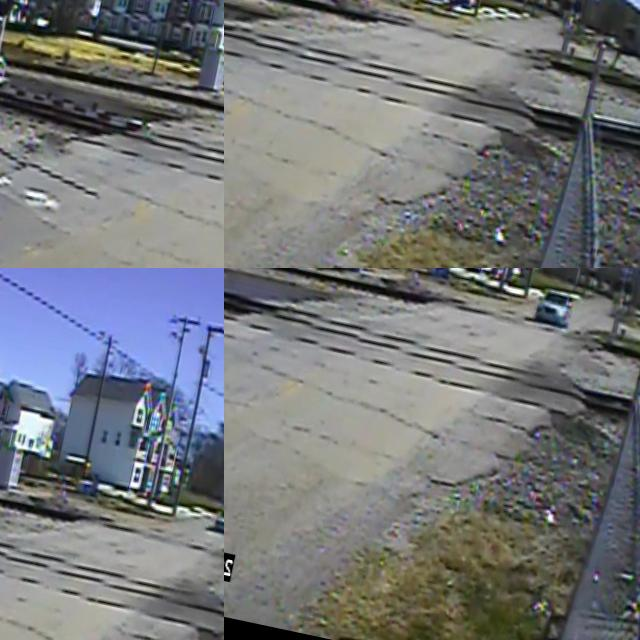barrier: (0, 268, 45, 388), (224, 268, 273, 343), (224, 0, 266, 78), (599, 268, 639, 307), (550, 0, 587, 42)
barrier-closed: (0, 64, 150, 140)
car: (530, 278, 577, 336), (422, 0, 481, 23), (207, 495, 224, 541)
rails: (224, 268, 640, 455), (224, 0, 640, 174), (224, 268, 640, 398), (224, 0, 640, 104), (0, 65, 224, 254), (0, 435, 224, 614), (0, 29, 224, 204), (0, 466, 224, 640)
traffic-signal: (0, 378, 33, 538), (591, 268, 640, 356), (0, 0, 31, 137), (539, 0, 587, 72), (224, 0, 260, 95), (224, 268, 256, 346)
